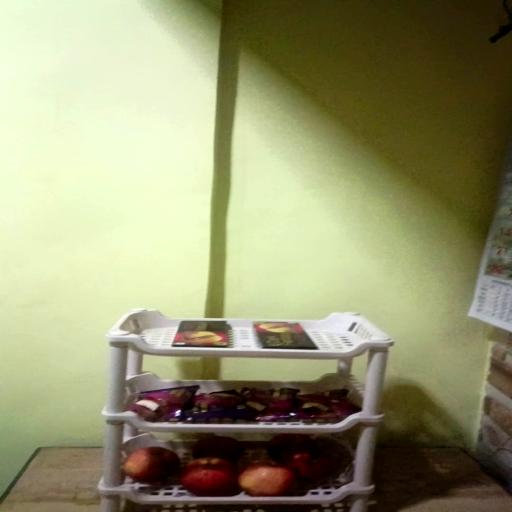Apple: (182, 456, 241, 495), (238, 461, 298, 497), (124, 448, 180, 484), (195, 436, 247, 462), (270, 434, 313, 456)
Choco Fills: (254, 322, 320, 349), (174, 321, 232, 348)
Choco Pie: (124, 386, 198, 422), (187, 390, 253, 422), (244, 387, 301, 420), (297, 390, 360, 418)
